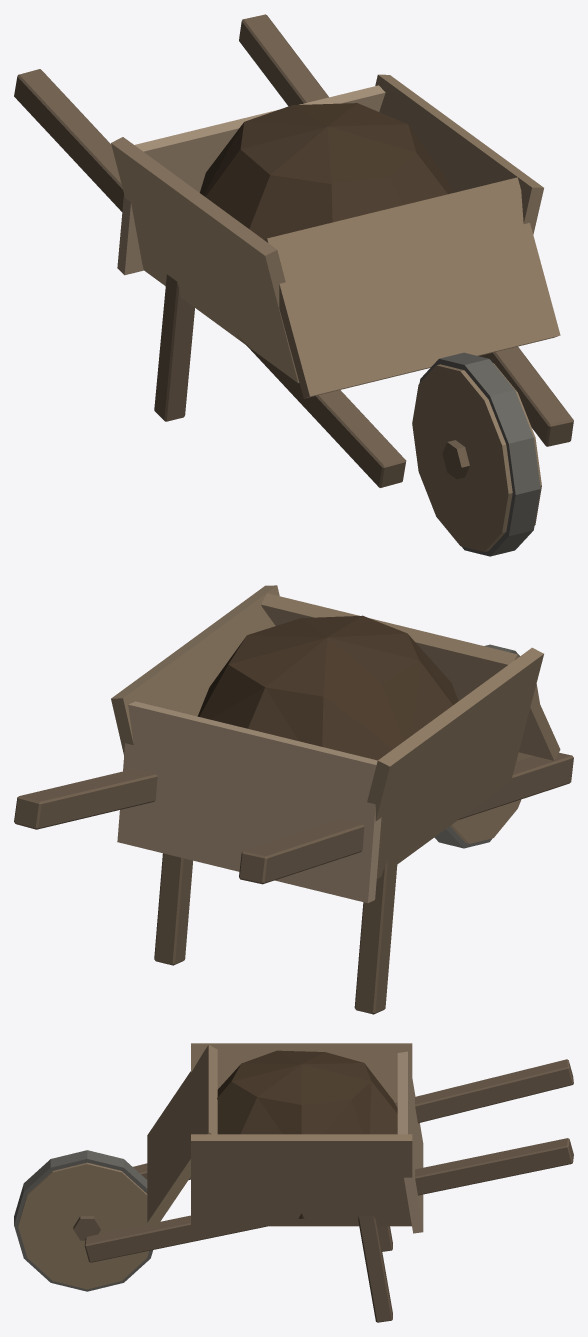
File: wheelbarrow.glb
3 views of the same model, one above another, from view 1: azimuth 30°, elevation 25°; view 2: azimuth 150°, elevation 25°; view 3: azimuth 270°, elevation 25° (orthographic). The views are drawn at different scales.
Visible parts, largest first — view 1: Wheelbarrow; view 2: Wheelbarrow; view 3: Wheelbarrow.
Boxes of the visible parts, x1,y1,x2,y2 form: Wheelbarrow: (14,14,573,556); Wheelbarrow: (14,585,573,1014); Wheelbarrow: (14,1043,573,1322).
Bounding box in the file's own units: 0.6682 × 0.712 × 1.62.
